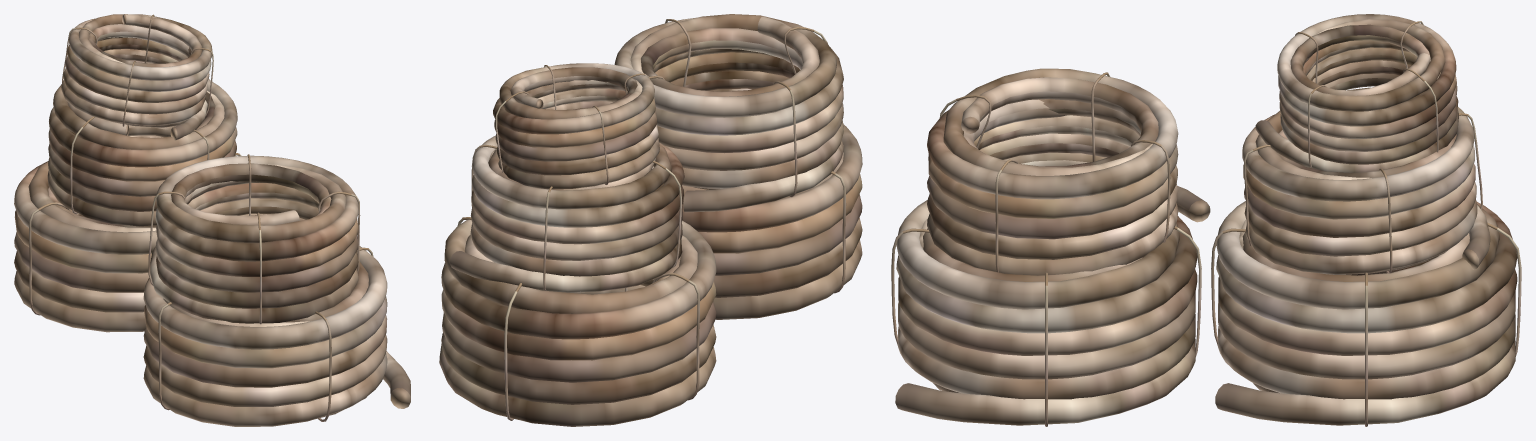
File: rope_coil.fbx
3 views of the same model, side by side, from view 1: azimuth 30°, elevation 25°; view 2: azimuth 150°, elevation 25°; view 3: azimuth 270°, elevation 25° (orthographic). The views are drawn at different scales.
Parts seen in each view (by area): view 1: polySurface2, polySurface1, polySurface3, polySurface4, polySurface5; view 2: polySurface3, polySurface2, polySurface4, polySurface1, polySurface5; view 3: polySurface3, polySurface1, polySurface2, polySurface4, polySurface5.
Part boxes in pixels (x1=…): polySurface2: x1=148, y1=154, x2=360, y2=324; polySurface1: x1=143, y1=246, x2=410, y2=426; polySurface3: x1=14, y1=153, x2=241, y2=332; polySurface4: x1=47, y1=79, x2=237, y2=226; polySurface5: x1=61, y1=14, x2=213, y2=140; polySurface3: x1=439, y1=217, x2=716, y2=426; polySurface2: x1=614, y1=14, x2=843, y2=212; polySurface4: x1=450, y1=135, x2=684, y2=292; polySurface1: x1=682, y1=124, x2=862, y2=319; polySurface5: x1=493, y1=63, x2=659, y2=189; polySurface3: x1=1211, y1=201, x2=1521, y2=426; polySurface1: x1=891, y1=200, x2=1201, y2=426; polySurface2: x1=927, y1=68, x2=1210, y2=275; polySurface4: x1=1242, y1=87, x2=1490, y2=274; polySurface5: x1=1255, y1=14, x2=1458, y2=172.
Bounding box in the file's own units: 1.82 × 2.05 × 3.65.
